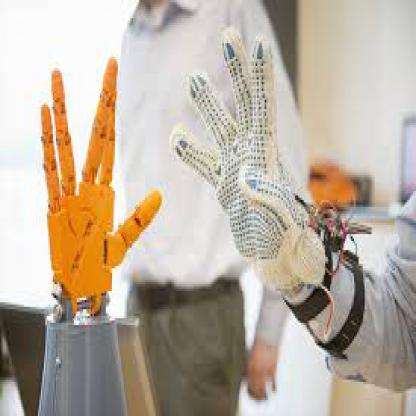with_gloves: (168, 25, 324, 289)
